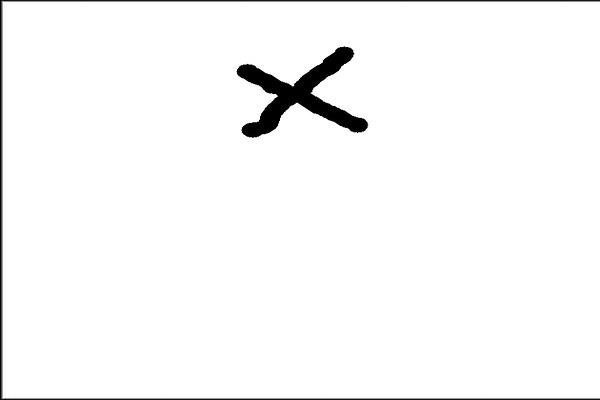X: (224, 36, 381, 154)
